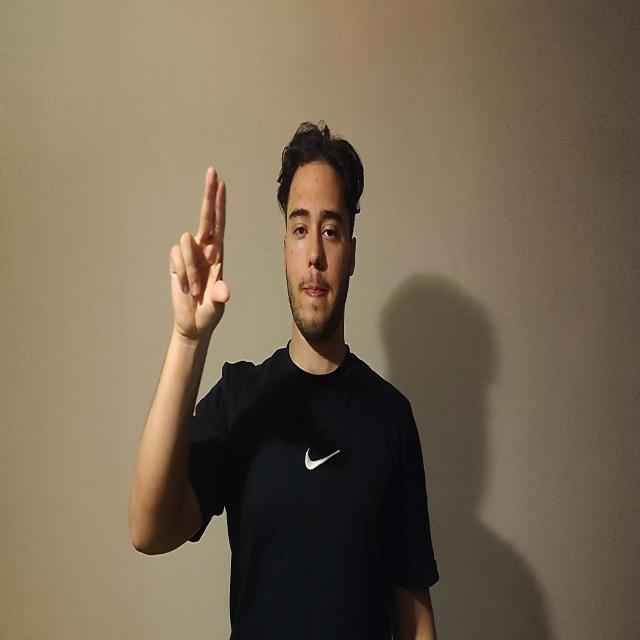no: (169, 165, 230, 341)
